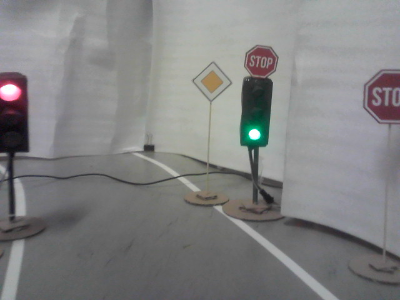priority_road: (192, 62, 230, 100)
stop: (246, 43, 276, 75)
trafficlight_green: (241, 79, 267, 145)
trafficlight_red: (1, 76, 29, 152)
